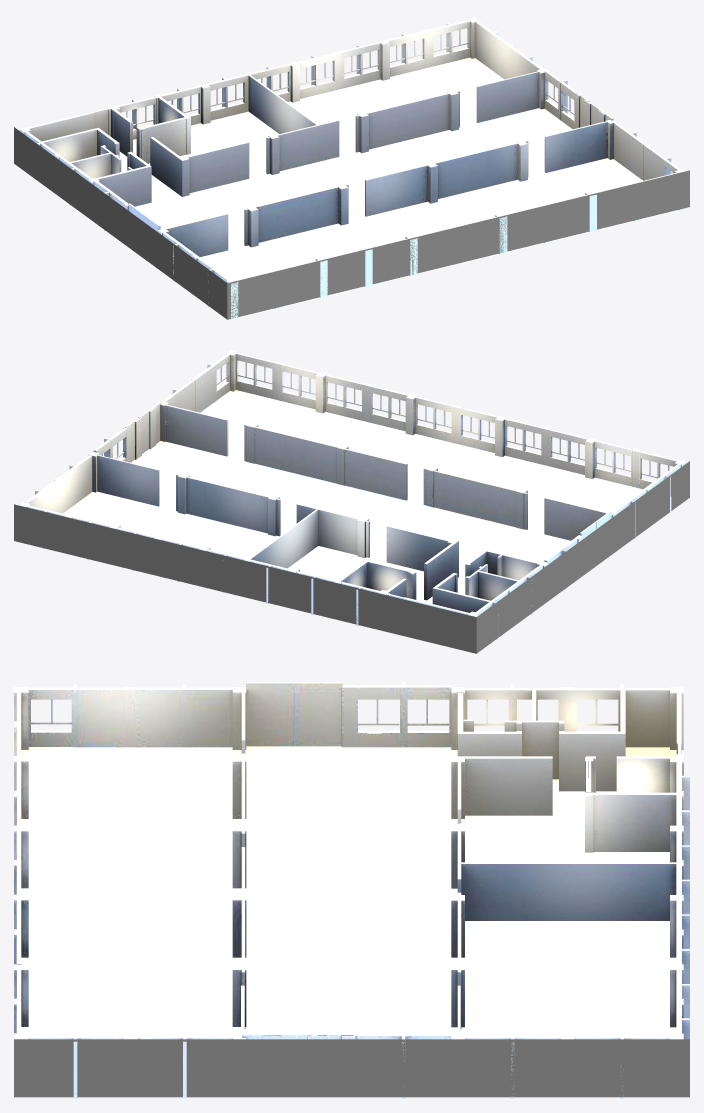
3 views of the same model, one above another, from view 1: azimuth 30°, elevation 25°; view 2: azimuth 150°, elevation 25°; view 3: azimuth 270°, elevation 25° (orthographic). The views are drawn at different scales.
Parts seen in each view (by area): view 1: hb_1floor_room01_3, hb_1floor_wlm_1, hb_1floor_room04_6, hb_1floor_zhongting_7, hb_1floor_room03_5, hb_1floor_room02_4, hb_1floor_guodao_2; view 2: hb_1floor_room01_3, hb_1floor_wlm_1, hb_1floor_zhongting_7, hb_1floor_room04_6, hb_1floor_room03_5, hb_1floor_room02_4, hb_1floor_guodao_2; view 3: hb_1floor_room01_3, hb_1floor_zhongting_7, hb_1floor_room04_6, hb_1floor_wlm_1, hb_1floor_room03_5, hb_1floor_room02_4, hb_1floor_guodao_2.
Boxes of the visible parts, x1,y1,x2,y2 form: hb_1floor_room01_3: (157,119,686,319); hb_1floor_wlm_1: (14,127,689,319); hb_1floor_room04_6: (247,18,546,161); hb_1floor_zhongting_7: (93,70,613,249); hb_1floor_room03_5: (108,73,318,196); hb_1floor_room02_4: (35,127,151,206); hb_1floor_guodao_2: (19,108,178,201); hb_1floor_room01_3: (160,350,686,540); hb_1floor_wlm_1: (14,461,689,653); hb_1floor_zhongting_7: (93,401,611,588); hb_1floor_room04_6: (19,451,317,592); hb_1floor_room03_5: (247,508,458,625); hb_1floor_room02_4: (432,549,548,639); hb_1floor_guodao_2: (388,579,492,616); hb_1floor_room01_3: (14,684,246,1098); hb_1floor_zhongting_7: (242,682,457,1098); hb_1floor_room04_6: (451,863,689,1098); hb_1floor_wlm_1: (14,1039,689,1097); hb_1floor_room03_5: (451,754,689,888); hb_1floor_room02_4: (451,684,625,791); hb_1floor_guodao_2: (552,687,683,814).
Bounding box in the file's own units: 4.7 × 0.3905 × 3.76.
7 materials, 6 textured.
